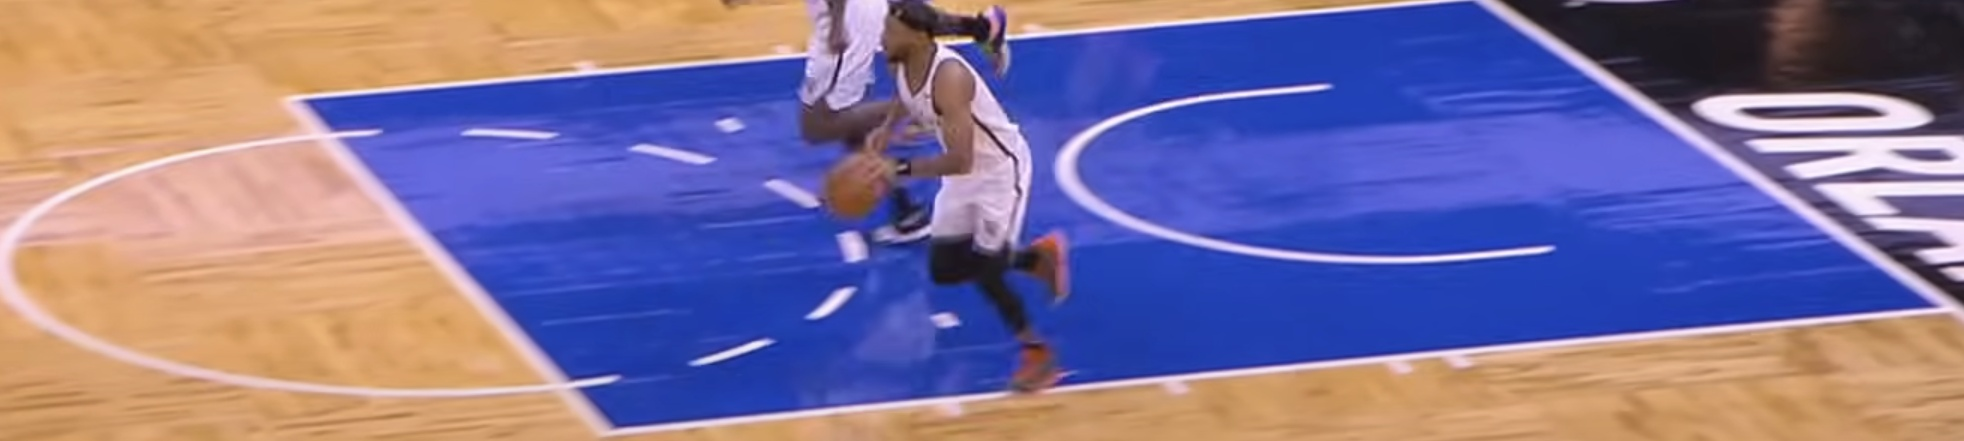endLine: (1488, 1, 1953, 306)
freeThrow: (294, 96, 610, 431)
lane: (610, 308, 1956, 433), (294, 1, 1460, 96)
